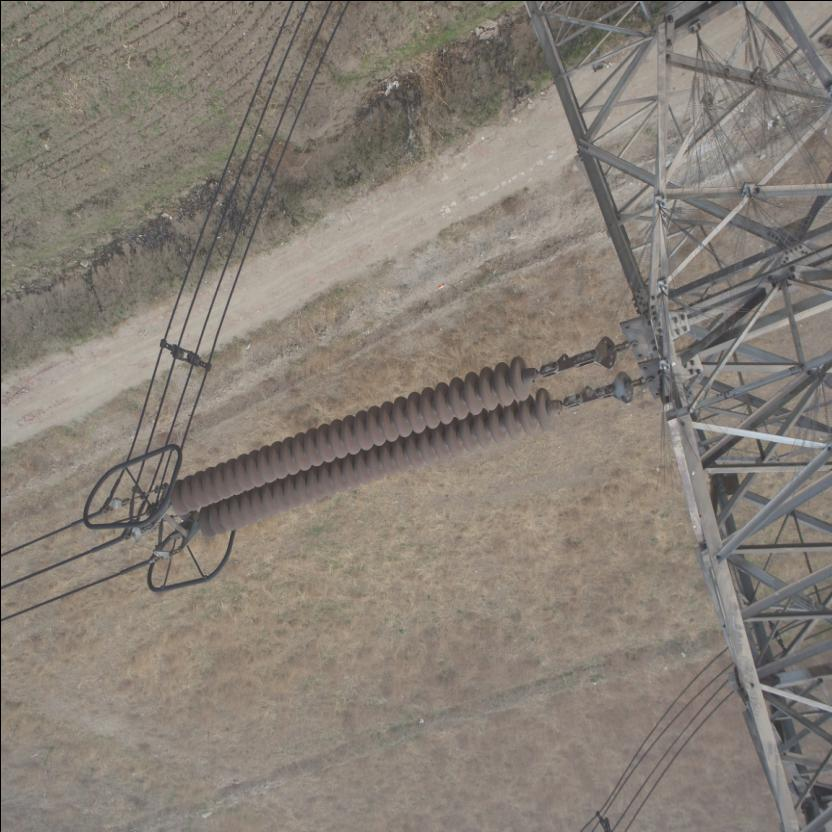insulator: (162, 354, 576, 544)
